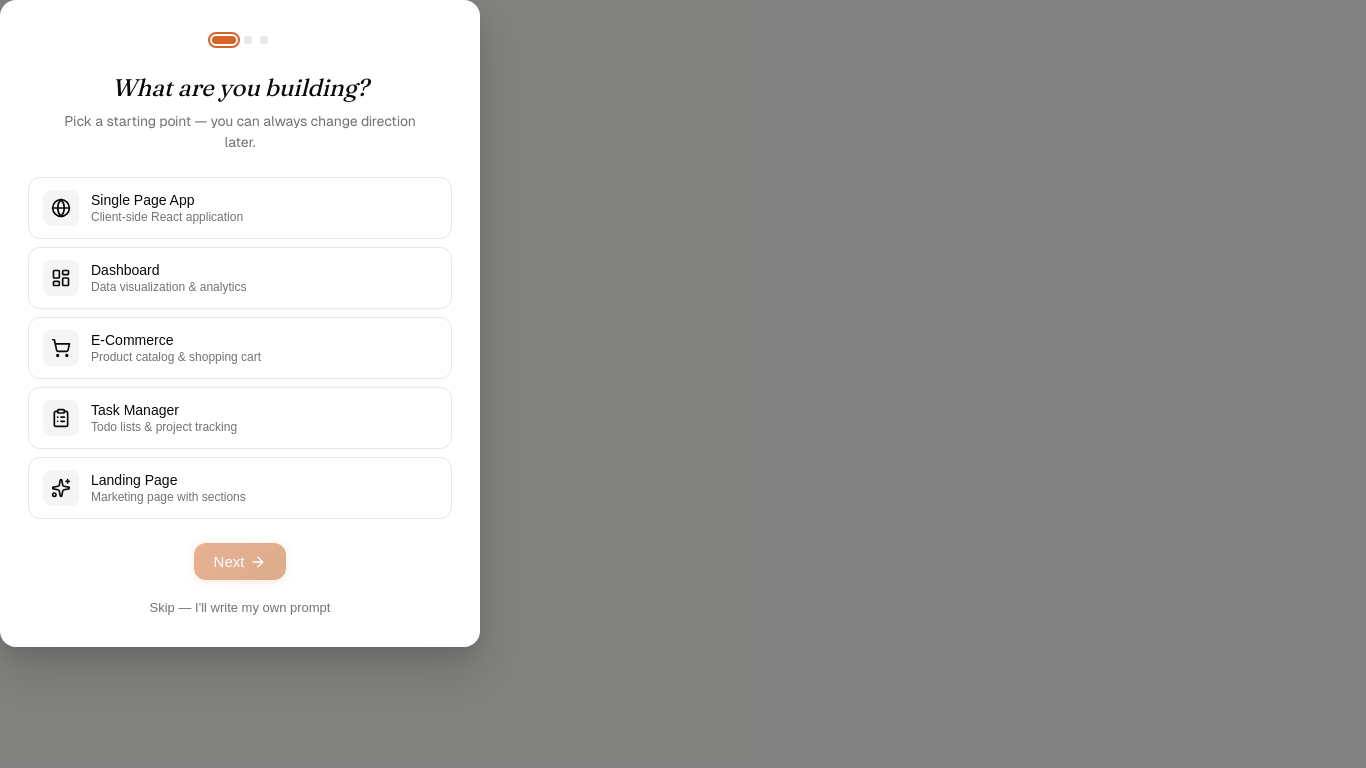
Scenario: OnboardingOverlay › Step 1 — project type selection › Next button is enabled after a project type is selected
Click the text "Dashboard" at (125, 270), box [91,262,160,278]
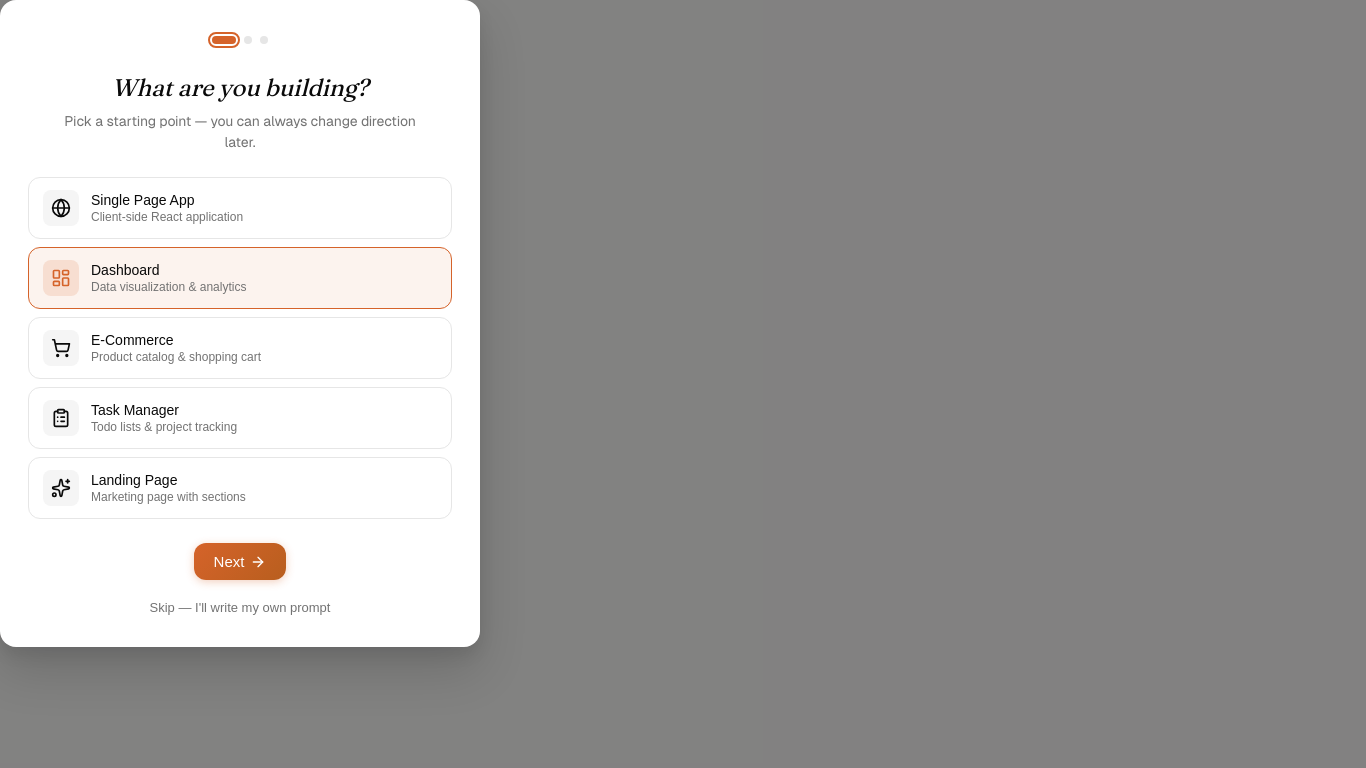
Result: the button "Next" is enabled at [194,543,286,580]
